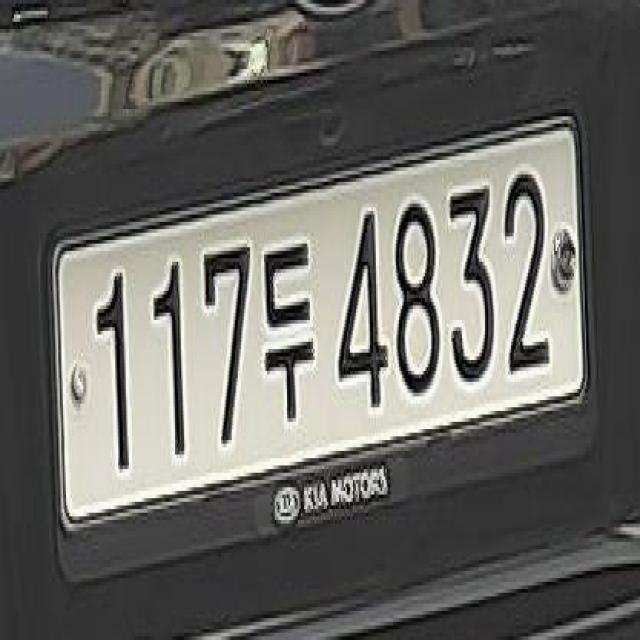illegal_plate: (47, 116, 596, 566)
